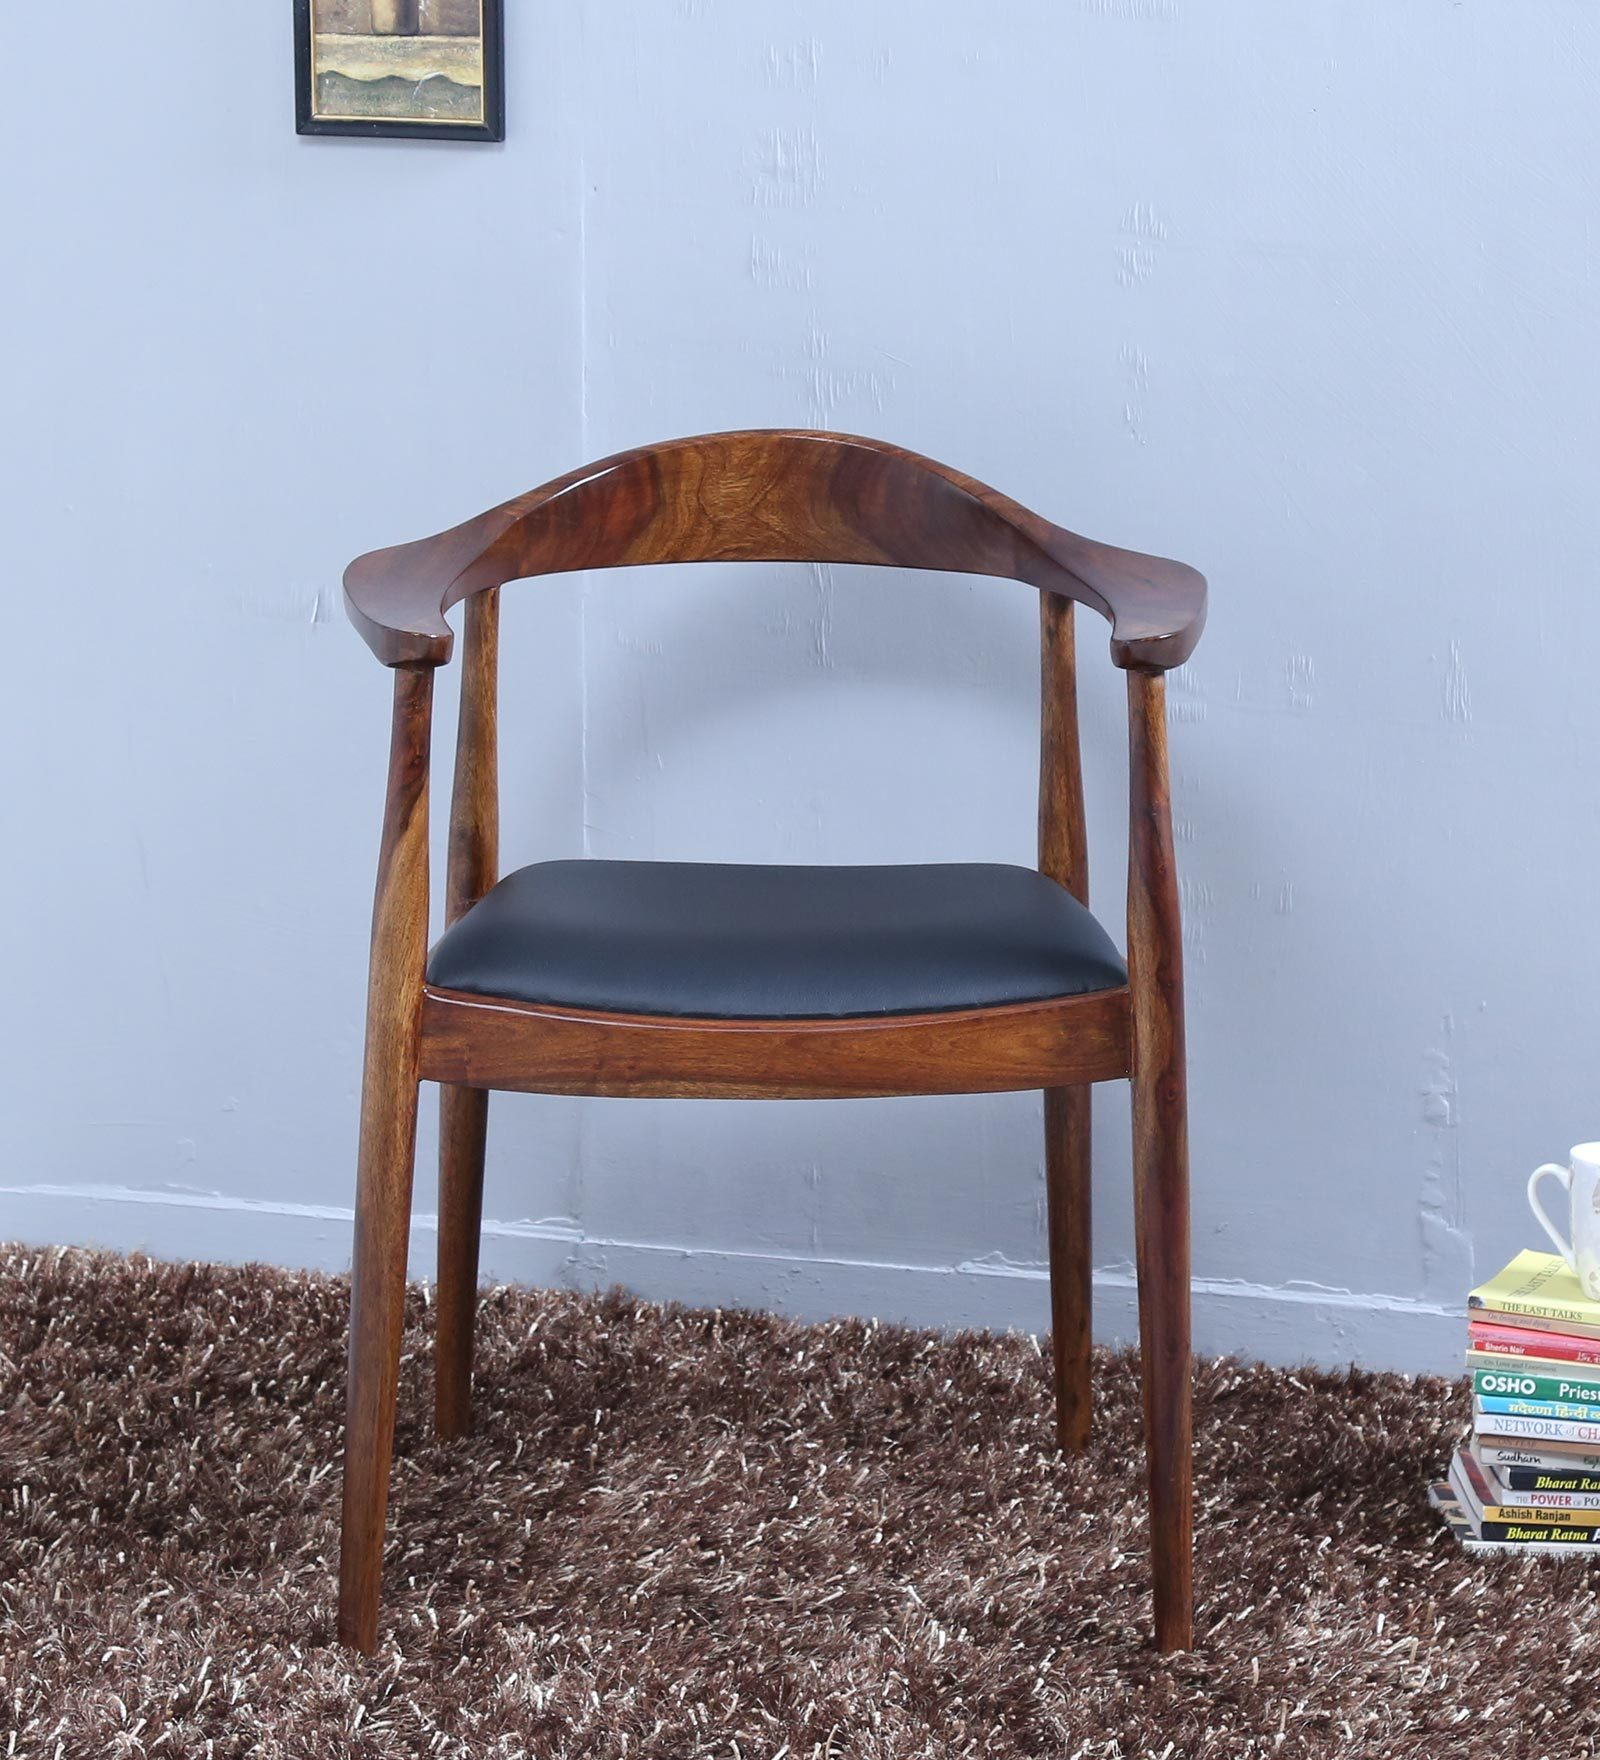Esvelt Arm Chair in Provincial Teak Finish by Woodsworth: (247, 388, 1306, 1685)
